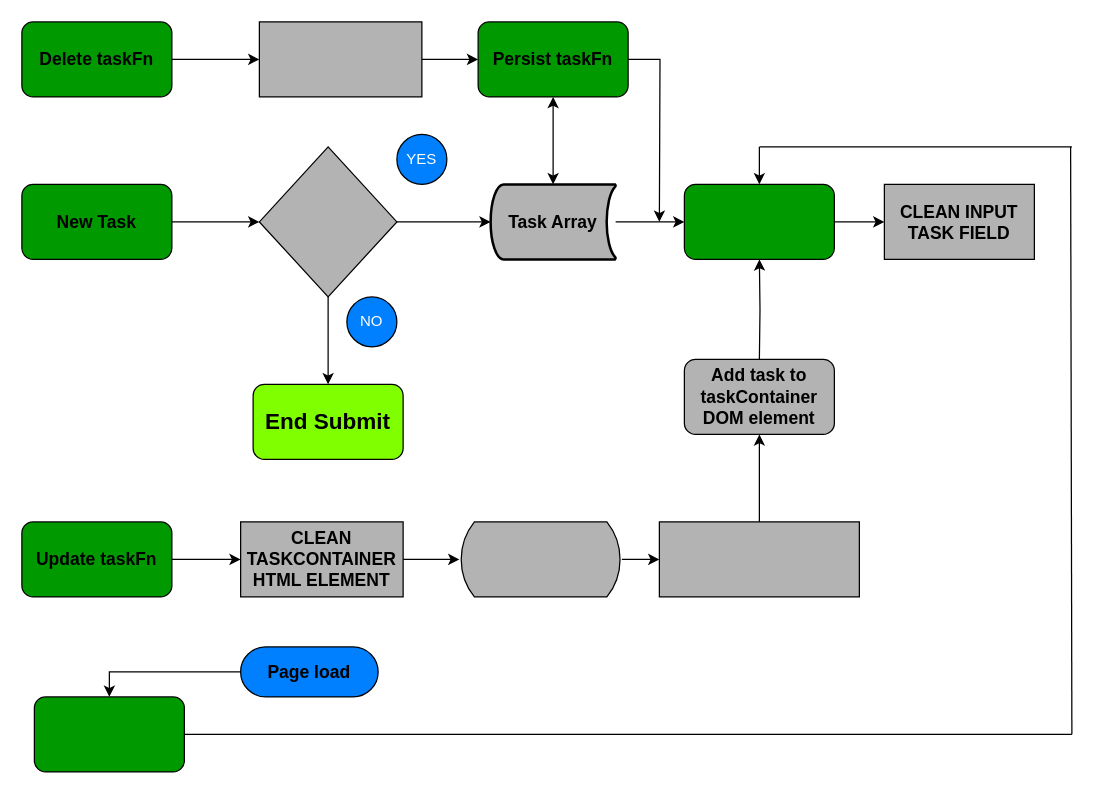
This 1095x794 diagram has some shape labels left out. The centre of each missing label's shape, as x and y in pixels:
"Create DOM elements - Add classes to DOM elems" belongs at [758,559].
"Init" belongs at [108,734].
"Is a truthy task?" belongs at [327,221].
"loop over taskArr" belongs at [540,559].
"TaskArr.splice" belongs at [340,59].
"Update tasks Show tasks" belongs at [758,221].
